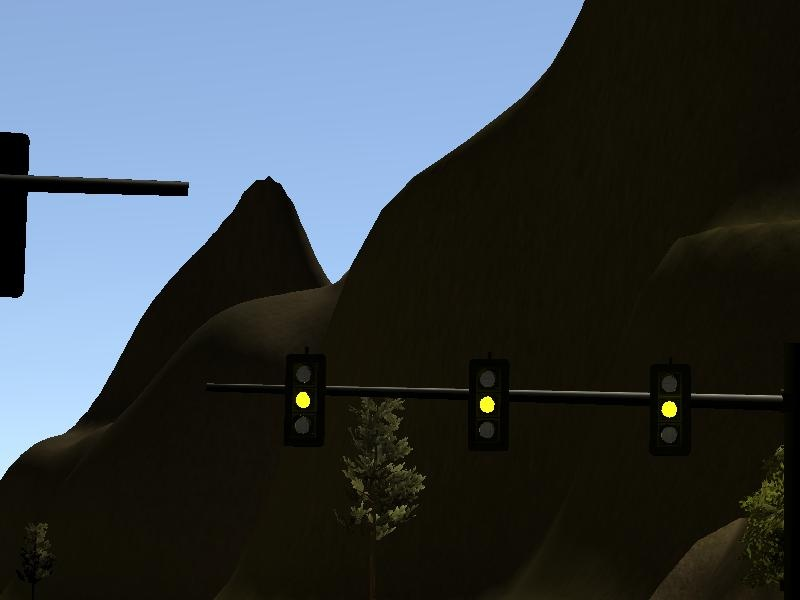yellow: (282, 352, 326, 449), (648, 365, 689, 461), (466, 356, 506, 453)
